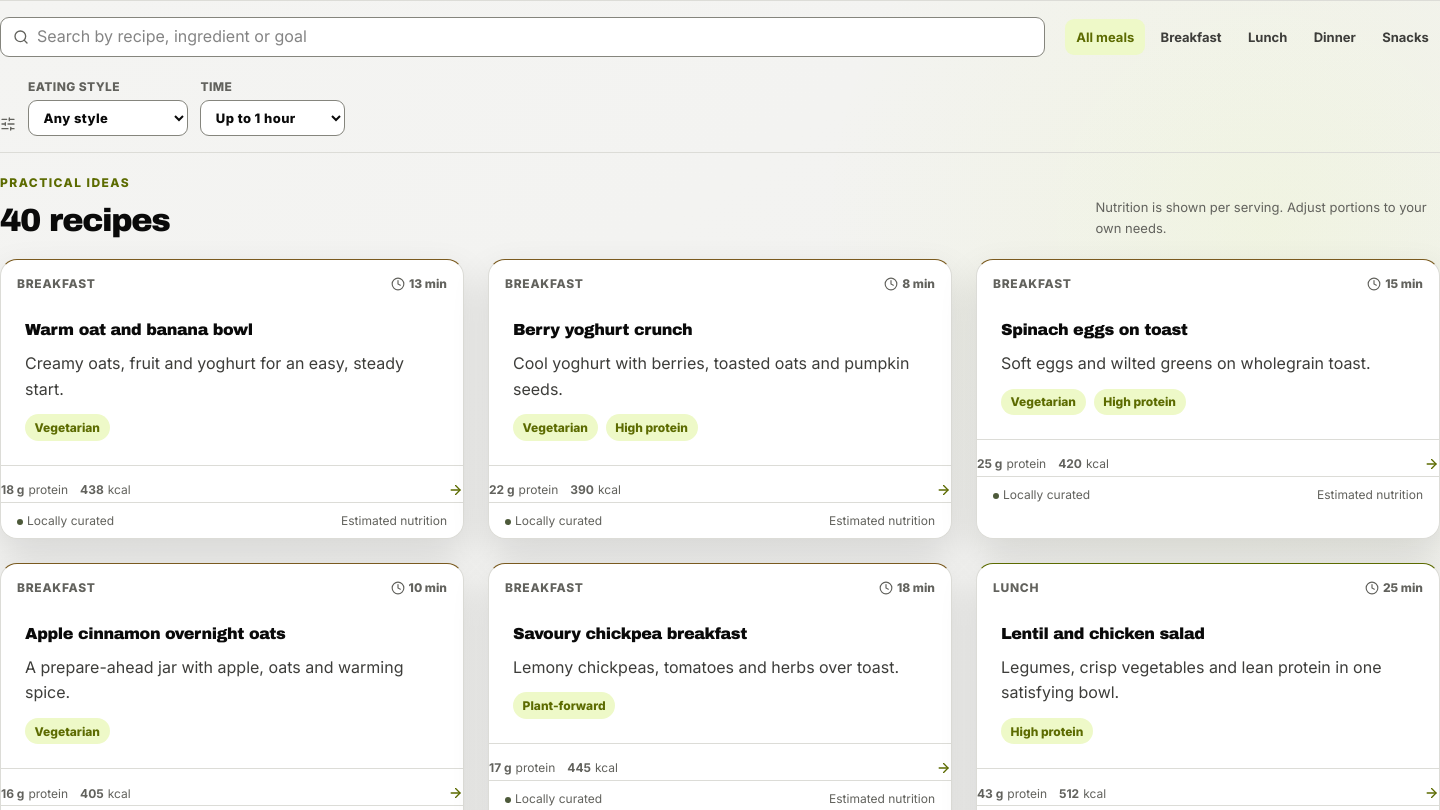
Test: RecipeLibrary › filters the catalogue without a navigation round trip
The width and height of the screenshot is (1440, 810).
Type "lentil" into the search field named "Search recipes".
click(535, 37); type("lentil")  # box [37,24,1032,50]
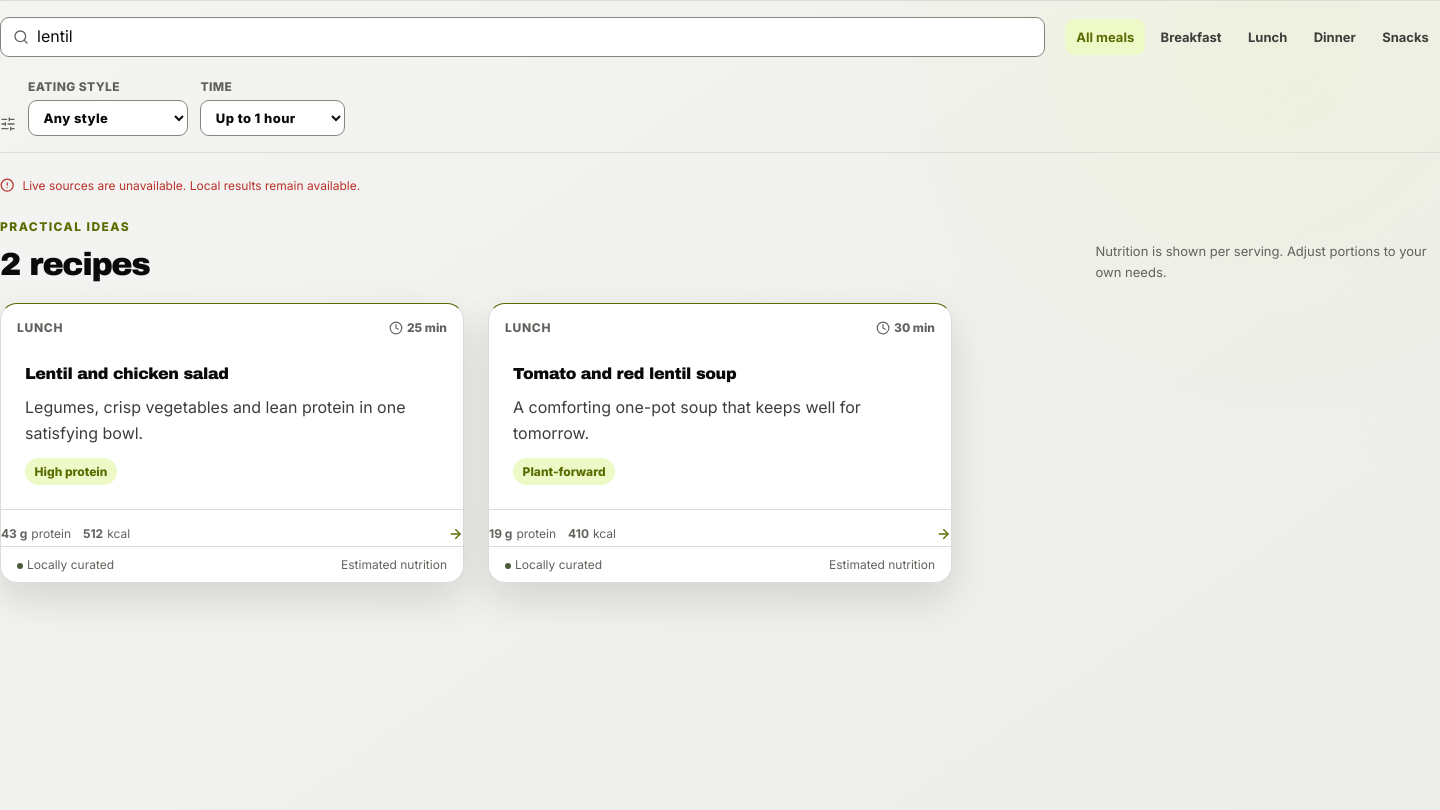
Expected: the heading "Lentil and chicken salad" is shown, [25,365,229,382]
Expected: the link "Berry yoghurt crunch" is gone
